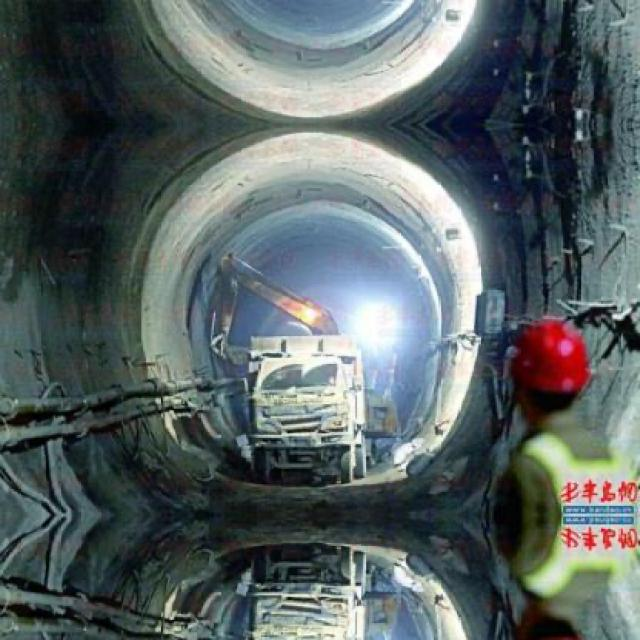helmet: (503, 312, 599, 419), (503, 612, 600, 638)
